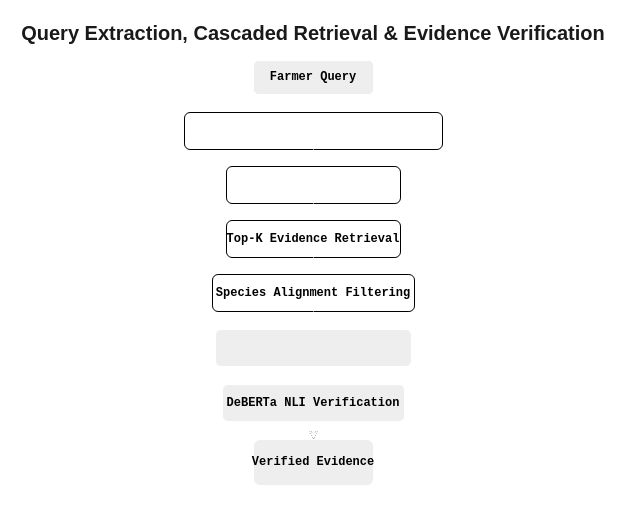
Some shapes in this 626 by 513 pixel diagram are drawn without their labels. The shapes that lost their labels are listed below. From the top down, each one's box as (x1, y1, x2, y2) in pixels, then its label:
(184, 112, 442, 150): Intent / Hypothesis Extraction
(226, 166, 400, 204): BGE-M3 Vector Retrieval
(214, 328, 412, 366): Evidence Distance Filtering
